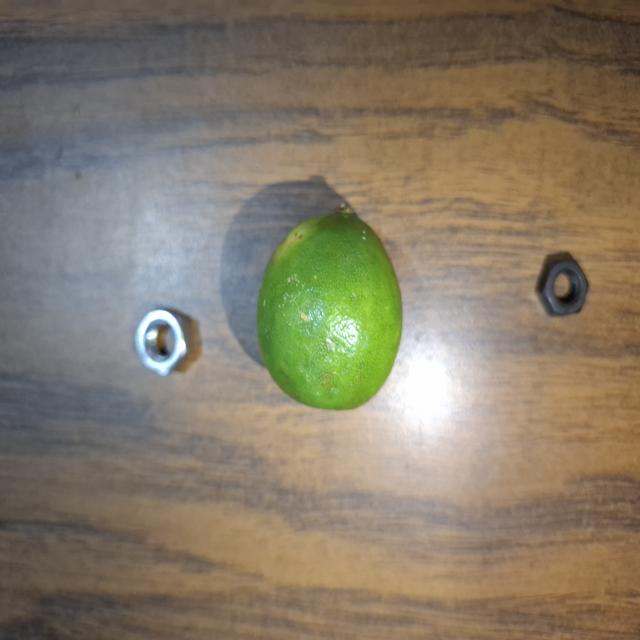limon: (254, 198, 414, 420)
milimetrico: (530, 249, 596, 326)
tuerca: (131, 305, 191, 385)
